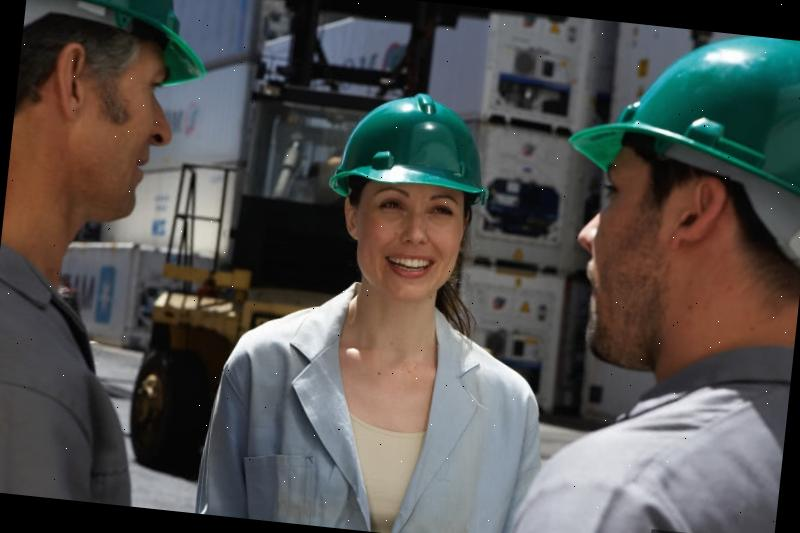helmet: (568, 26, 800, 205), (17, 0, 215, 101), (324, 84, 488, 200)
no_wear: (201, 313, 540, 533)
wear: (522, 398, 785, 533)
